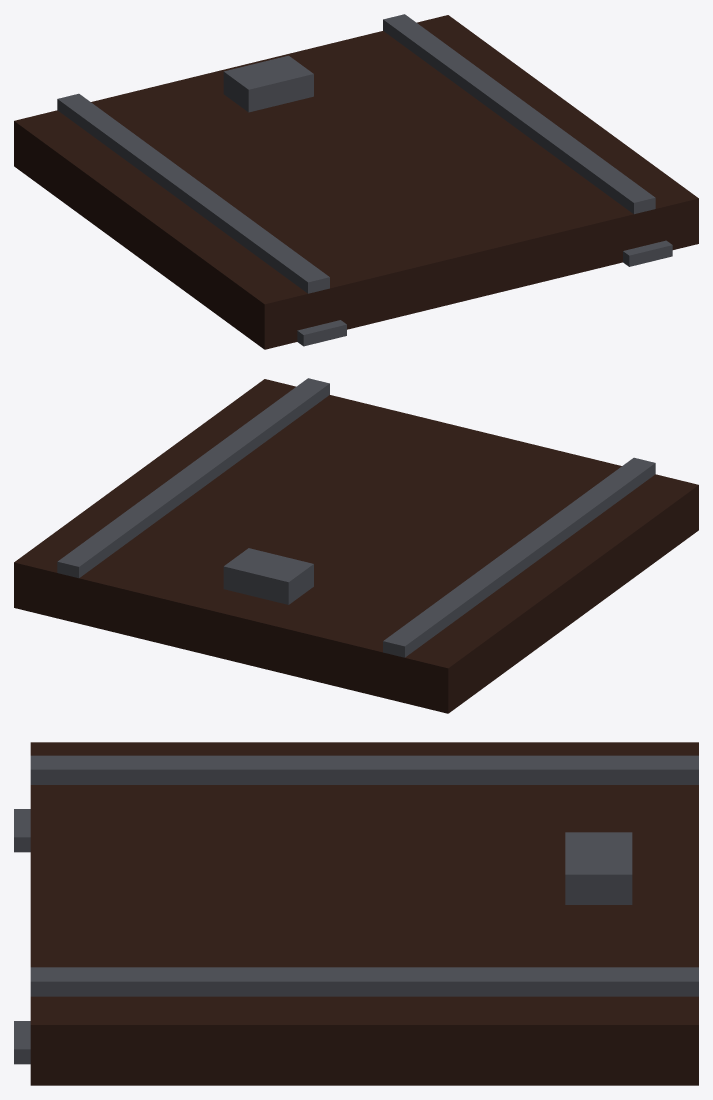
The model's file is trapdoor.fbx.
3 renders of one model, top to bottom at view 1: azimuth 30°, elevation 25°; view 2: azimuth 150°, elevation 25°; view 3: azimuth 270°, elevation 25°, orthographic. The views are drawn at different scales.
Visible parts, largest first — view 1: Cube.001, Cube.005; view 2: Cube.001, Cube.005; view 3: Cube.001, Cube.005.
Part boxes in pixels (bbox=[...]): Cube.001: bbox=[14, 14, 698, 349]; Cube.005: bbox=[223, 55, 313, 112]; Cube.001: bbox=[14, 378, 698, 713]; Cube.005: bbox=[223, 548, 313, 604]; Cube.001: bbox=[14, 742, 698, 1085]; Cube.005: bbox=[565, 832, 632, 904].
Size of the model in its own units: 200 by 30 by 205.
